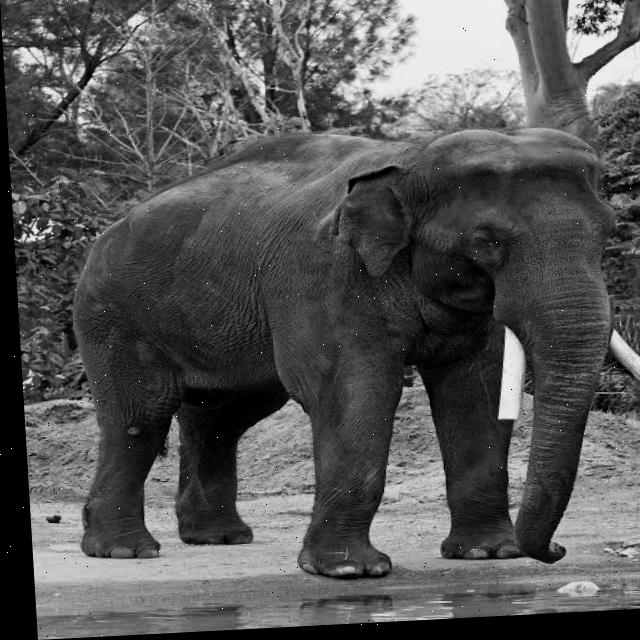Elephant: (55, 113, 640, 592)
